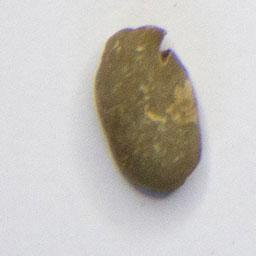defect: (90, 22, 205, 197)
